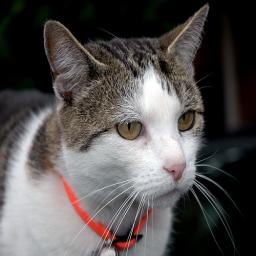catnose: (166, 161, 186, 183)
